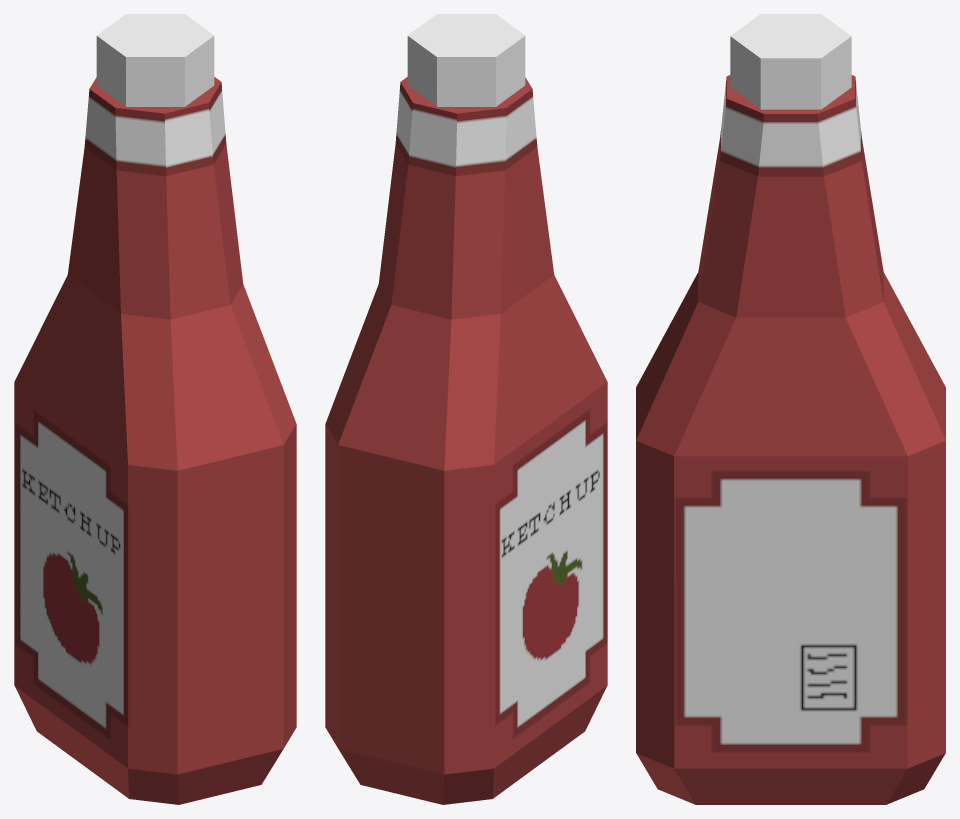
File: Ketchup.fbx
The picture shows the model from 3 angles, left to right: view 1: azimuth 30°, elevation 25°; view 2: azimuth 150°, elevation 25°; view 3: azimuth 270°, elevation 25°; orthographic projection. The views are drawn at different scales.
Parts seen in each view (by area): view 1: Cube.150; view 2: Cube.150; view 3: Cube.150.
Part boxes in pixels (x1,y1,x2,y2): Cube.150: (14, 14, 296, 804); Cube.150: (325, 14, 607, 804); Cube.150: (636, 14, 945, 804).
Bounding box in the file's own units: 117 × 473 × 181.
